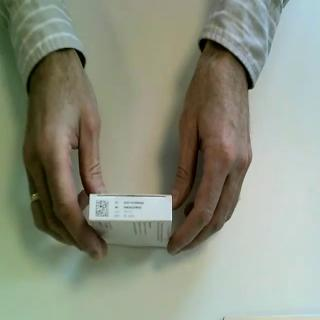dolcontin10mg: (87, 192, 175, 253)
